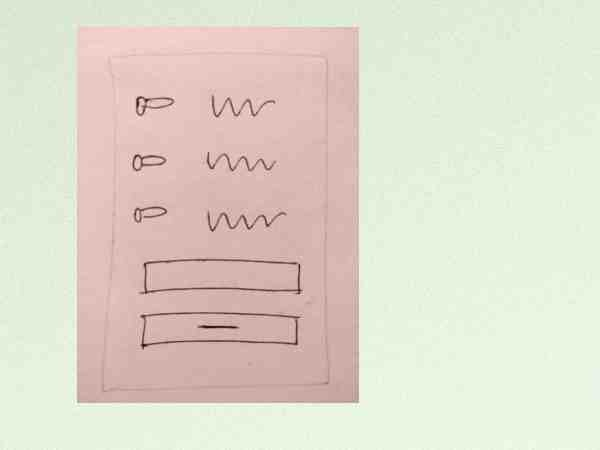button: (134, 307, 303, 353)
switch: (129, 89, 181, 122), (126, 198, 173, 229), (127, 149, 171, 178)
text: (202, 204, 294, 241), (204, 88, 280, 122), (199, 146, 279, 178)
text_input: (136, 256, 308, 301)
